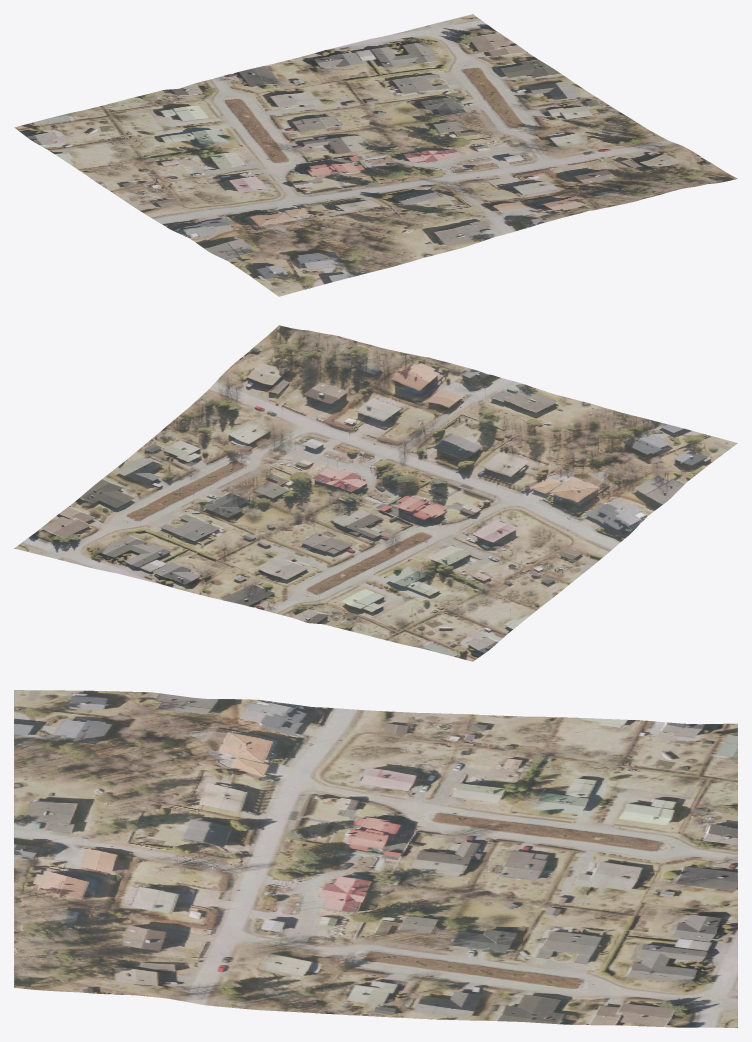
Rendered from CM_Terrain_24490049_6817951.fbx.
3 views of the same model, one above another, from view 1: azimuth 30°, elevation 25°; view 2: azimuth 150°, elevation 25°; view 3: azimuth 270°, elevation 25° (orthographic). The views are drawn at different scales.
Parts seen in each view (by area): view 1: CM_Terrain_24490049_6817951_LOD0; view 2: CM_Terrain_24490049_6817951_LOD0; view 3: CM_Terrain_24490049_6817951_LOD0.
Part boxes in pixels (x1,y1,x2,y2): CM_Terrain_24490049_6817951_LOD0: (14, 14, 737, 296); CM_Terrain_24490049_6817951_LOD0: (14, 325, 737, 661); CM_Terrain_24490049_6817951_LOD0: (14, 690, 737, 1027).
Size of what is drawn, in the model's own units: 205 by 15.6 by 205.
